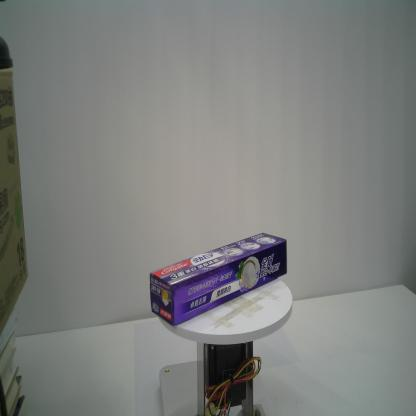Personal Hygiene: (149, 230, 289, 327)
